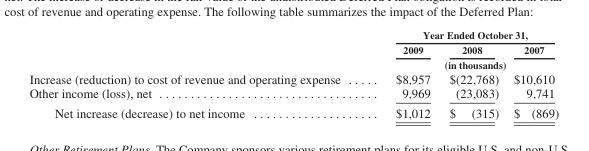table: (28, 28, 558, 119)
table column: (28, 28, 367, 119), (367, 28, 439, 119), (439, 28, 505, 119), (505, 28, 558, 119)
table column header: (28, 28, 558, 71)
table row: (28, 85, 558, 102), (28, 102, 558, 119), (28, 42, 558, 57), (28, 28, 558, 42), (28, 57, 558, 71), (28, 71, 558, 85)
table spanning cell: (367, 28, 558, 42), (367, 57, 558, 71)
